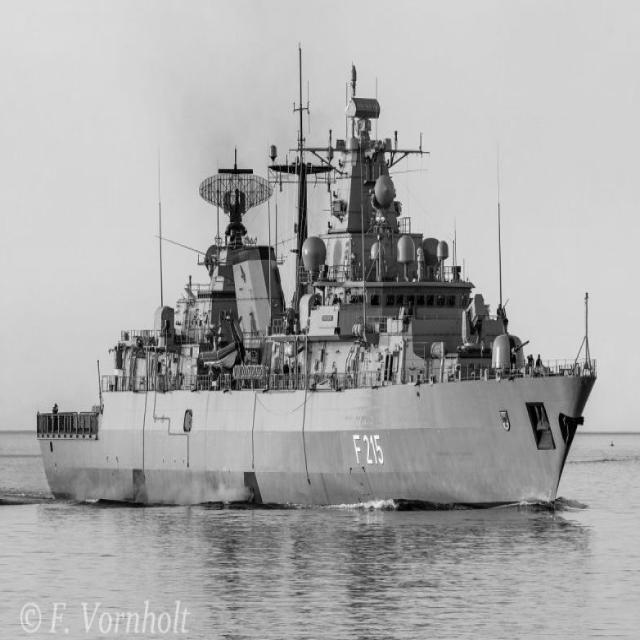Fragata: (36, 38, 600, 520)
